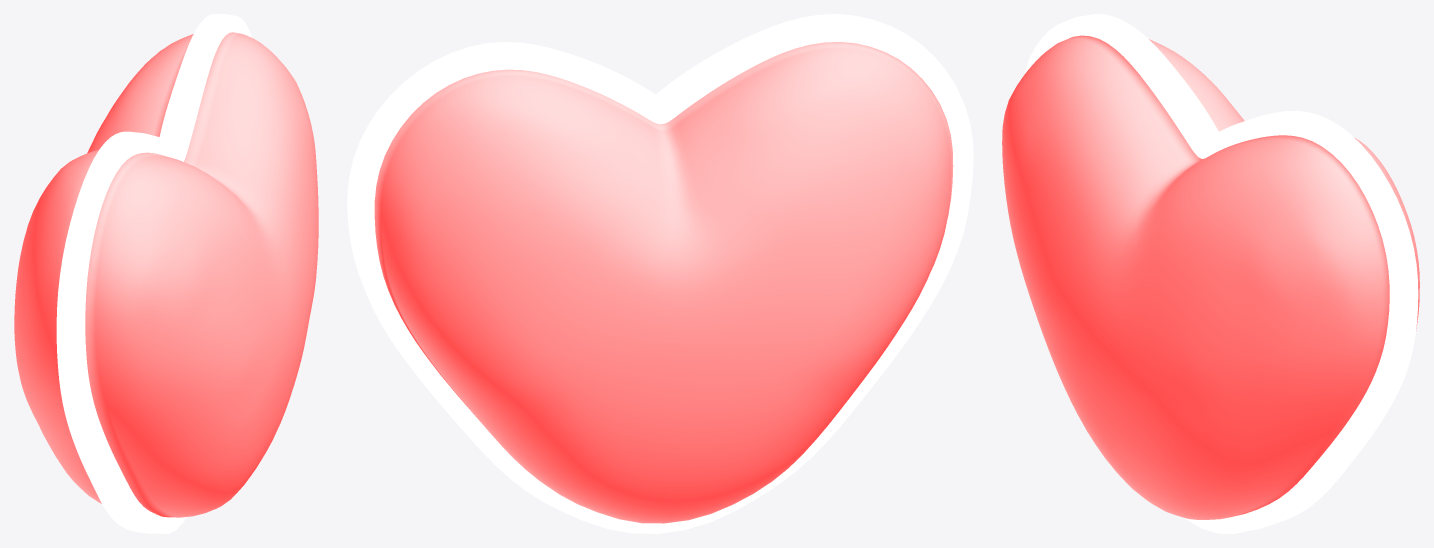
File: Corazon_Rotacion.fbx
3 views of the same model, side by side, from view 1: azimuth 30°, elevation 25°; view 2: azimuth 150°, elevation 25°; view 3: azimuth 270°, elevation 25° (orthographic). The views are drawn at different scales.
Parts seen in each view (by area): view 1: Corazon; view 2: Corazon; view 3: Corazon.
Part boxes in pixels (x1,y1,x2,y2): Corazon: [14, 14, 318, 533]; Corazon: [347, 14, 973, 533]; Corazon: [1002, 14, 1419, 533].
Size of the model in its own units: 2.8 by 3.05 by 2.56.
